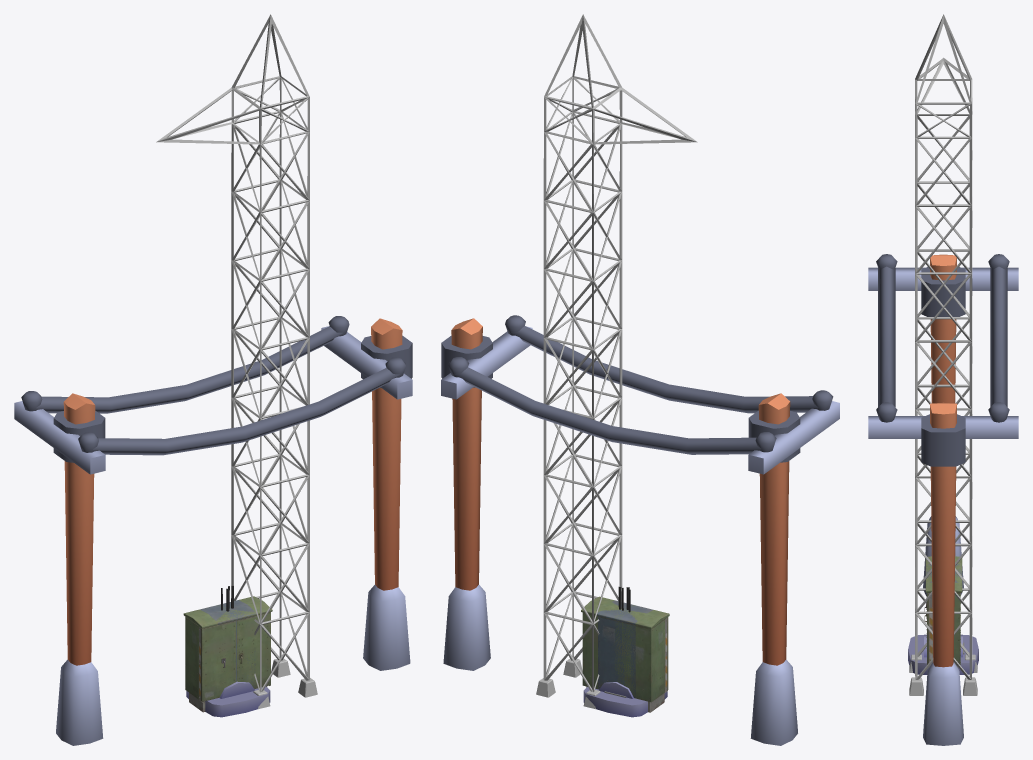
The model's file is seguridad-electrica.glb.
The picture shows the model from 3 angles, left to right: view 1: azimuth 30°, elevation 25°; view 2: azimuth 150°, elevation 25°; view 3: azimuth 270°, elevation 25°; orthographic projection.
Parts seen in each view (by area): view 1: electricity-pole, Tower_10, utility_box_02, lever-double, utility_box_01_box; view 2: electricity-pole, Tower_10, utility_box_02, utility_box_01_box, lever-double; view 3: electricity-pole, Tower_10, utility_box_02, lever-double.
Part boxes in pixels (box(x1,y1,x2,y2)): electricity-pole: box(14, 316, 412, 745); Tower_10: box(156, 14, 317, 709); utility_box_02: box(183, 596, 272, 712); lever-double: box(186, 681, 270, 717); utility_box_01_box: box(200, 600, 256, 688); electricity-pole: box(441, 315, 839, 745); Tower_10: box(536, 14, 697, 709); utility_box_02: box(581, 596, 669, 712); utility_box_01_box: box(597, 600, 653, 698); lever-double: box(583, 682, 667, 717); electricity-pole: box(868, 254, 1018, 745); Tower_10: box(909, 14, 977, 695); utility_box_02: box(924, 556, 962, 667); lever-double: box(908, 634, 978, 674).
Bounding box in the file's own units: 6.62 × 12 × 2.45.
Materials: 23 (5 with a texture image).
